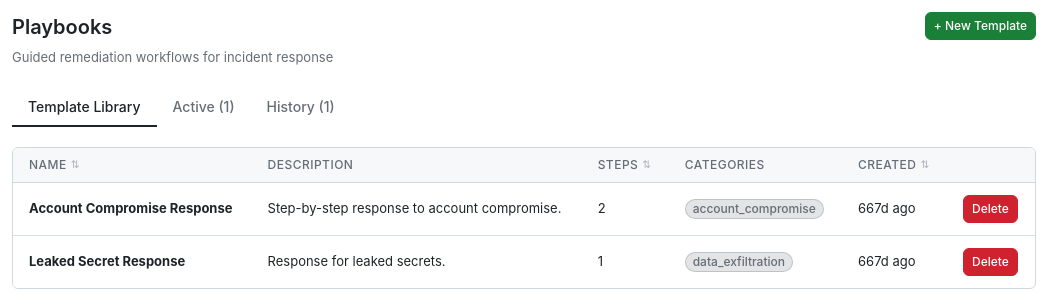
Test: PlaybooksPage › switches to history tab and shows completed executions
What coordinates should you click on to do the following:
click the tab "History (1)"
I would click on:
 (301, 107)
Its box is [251,88,351,126].
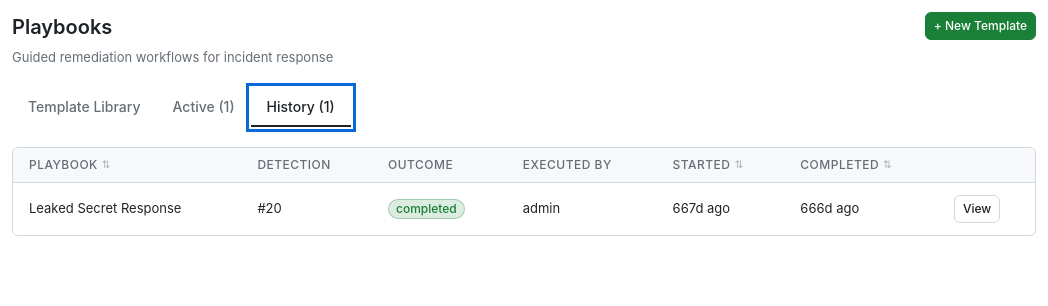
Expected: the text "#20" is shown, [241,182,372,234]
